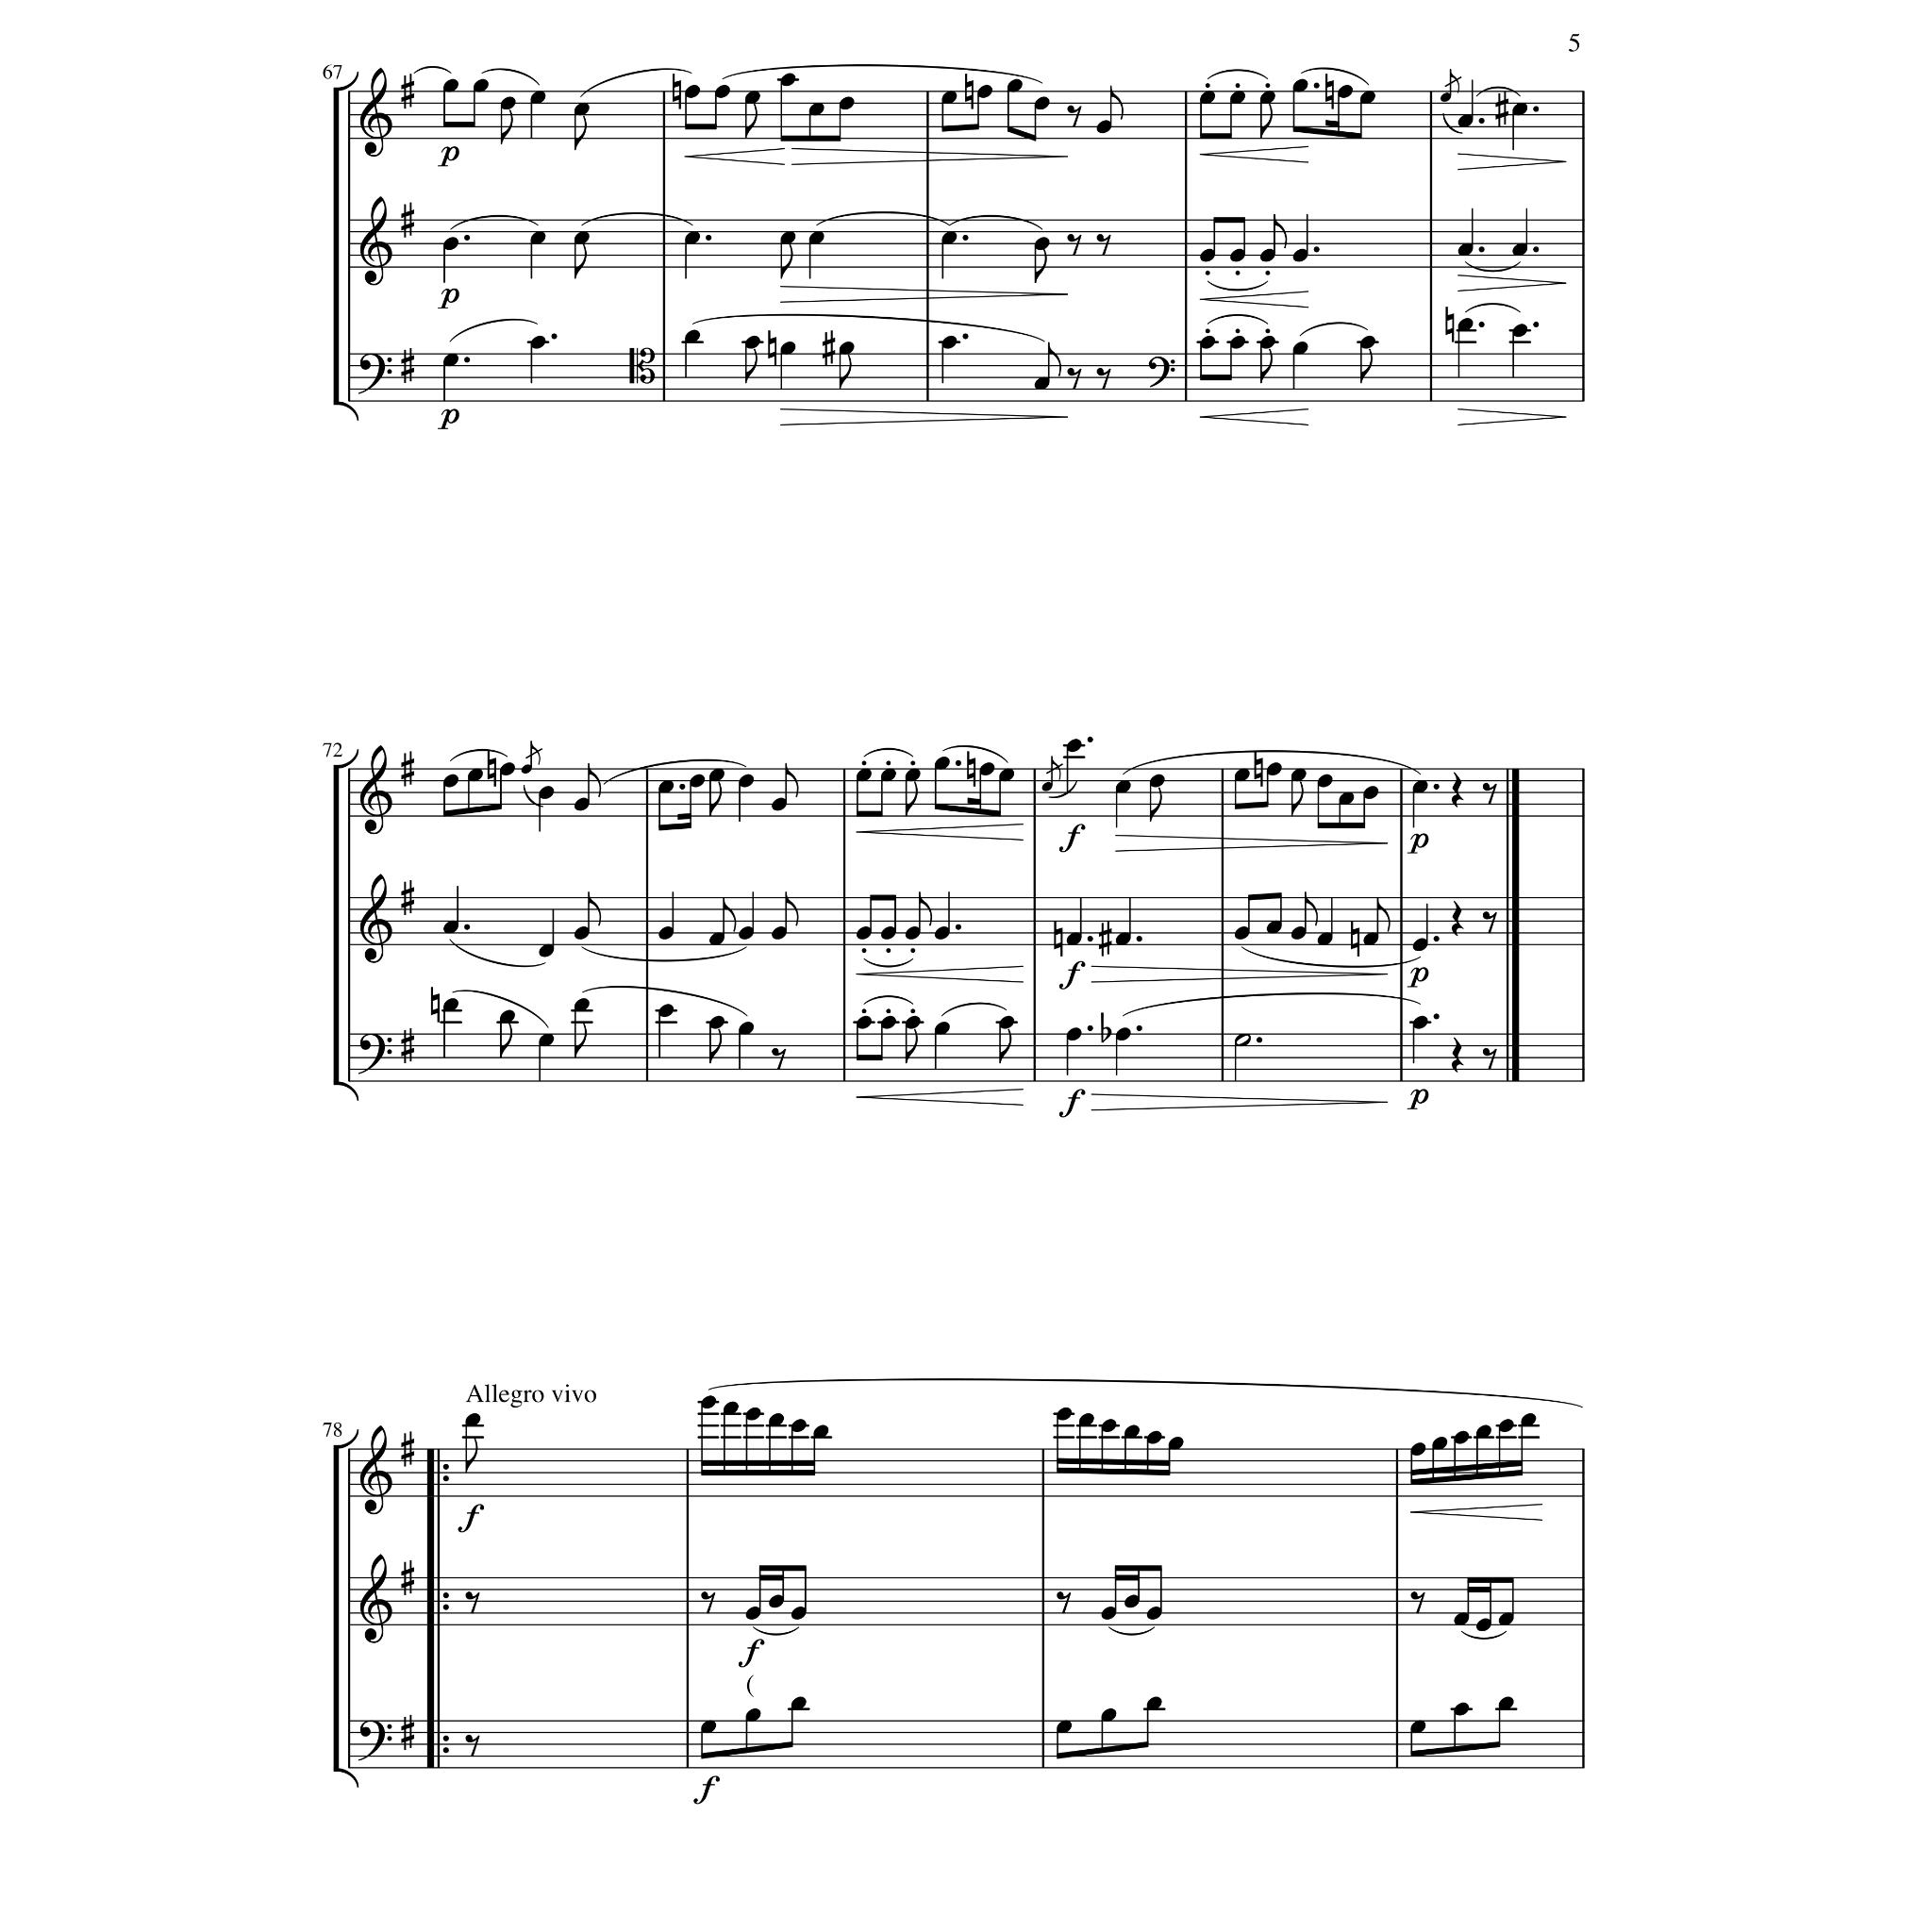fClef: (357, 354, 392, 395), (357, 1034, 392, 1075), (357, 1721, 392, 1762)
flag8thDown: (574, 115, 587, 151), (500, 109, 513, 145), (1034, 248, 1047, 284), (1291, 781, 1304, 817), (1149, 787, 1162, 823), (575, 1023, 588, 1058), (709, 781, 723, 817), (999, 1028, 1012, 1064), (709, 1028, 723, 1064), (500, 1023, 513, 1058), (1359, 349, 1373, 383), (574, 245, 587, 279), (839, 355, 852, 389), (1260, 104, 1272, 140), (745, 104, 757, 140), (906, 781, 917, 817), (906, 1028, 917, 1064), (466, 1438, 477, 1474), (1260, 349, 1272, 383), (781, 245, 792, 279), (745, 349, 757, 383)
flag8thUp: (1443, 62, 1462, 94), (1045, 749, 1064, 781), (525, 734, 543, 766), (1110, 85, 1124, 121), (1377, 898, 1391, 934), (724, 898, 737, 934), (1274, 215, 1287, 249), (1048, 343, 1061, 377), (1305, 892, 1318, 926), (588, 764, 601, 798), (588, 892, 601, 926), (919, 892, 932, 926), (786, 764, 799, 798), (786, 892, 799, 926)
gClef: (359, 196, 391, 287), (359, 68, 391, 158), (359, 745, 391, 836), (359, 874, 391, 964), (359, 1554, 391, 1644), (359, 1424, 391, 1515)
noteheadBlack: (1228, 91, 1245, 106), (1457, 317, 1474, 332), (1511, 102, 1528, 117), (574, 102, 591, 117), (574, 230, 591, 245), (743, 91, 760, 106), (441, 353, 458, 368), (779, 341, 796, 357), (779, 230, 796, 245), (838, 96, 855, 111), (838, 341, 855, 357), (1411, 938, 1428, 953), (1411, 1015, 1428, 1030), (1362, 932, 1379, 947), (1411, 779, 1428, 794), (574, 998, 591, 1013), (574, 926, 591, 941), (689, 774, 706, 789), (441, 774, 458, 789), (441, 998, 458, 1013), (538, 943, 555, 958), (498, 762, 515, 777), (498, 1009, 515, 1024), (879, 768, 896, 783), (879, 926, 896, 941), (879, 1015, 896, 1030), (998, 768, 1015, 783), (998, 1015, 1015, 1030), (934, 757, 951, 772), (934, 926, 951, 941), (738, 926, 755, 941), (738, 774, 755, 789), (1100, 1707, 1117, 1723), (1100, 1606, 1117, 1621), (1100, 1419, 1117, 1434), (1453, 1702, 1470, 1717), (1453, 1430, 1470, 1445), (1260, 91, 1275, 106), (1360, 91, 1375, 106), (1292, 341, 1307, 357), (1200, 91, 1215, 106), (685, 230, 700, 245), (500, 96, 515, 111), (530, 91, 545, 106), (530, 230, 545, 245), (1034, 96, 1049, 111), (809, 102, 824, 117), (809, 230, 824, 245), (941, 230, 957, 245), (941, 91, 957, 106), (1317, 932, 1332, 947), (1317, 774, 1332, 789), (1266, 762, 1281, 777), (1291, 768, 1306, 783), (1291, 926, 1306, 941), (1066, 932, 1081, 947), (1149, 774, 1164, 789), (1234, 768, 1249, 783), (1234, 926, 1249, 941), (1115, 779, 1130, 794), (1115, 932, 1130, 947), (658, 779, 674, 794), (658, 926, 674, 941), (658, 1004, 674, 1019), (709, 768, 724, 783), (709, 932, 724, 947), (709, 1015, 724, 1030), (468, 768, 483, 783), (906, 768, 921, 783), (906, 926, 921, 941), (906, 1015, 921, 1030), (979, 762, 994, 777), (857, 768, 872, 783), (857, 926, 872, 941), (857, 1015, 872, 1030), (772, 926, 787, 941), (1124, 1594, 1140, 1609), (1124, 1424, 1140, 1440), (1146, 1696, 1161, 1711), (1146, 1606, 1161, 1621), (1146, 1430, 1161, 1445), (1498, 1696, 1513, 1711), (1498, 1419, 1513, 1434), (1475, 1424, 1491, 1440), (745, 1707, 760, 1723), (745, 1606, 760, 1621), (813, 1424, 828, 1440), (769, 1594, 784, 1609), (791, 1606, 806, 1621), (791, 1419, 806, 1434), (791, 1696, 806, 1711), (1228, 249, 1245, 262), (1228, 336, 1245, 349), (1457, 115, 1474, 128), (1457, 243, 1474, 257), (1511, 243, 1528, 257), (1511, 325, 1528, 338), (743, 336, 760, 349), (441, 79, 458, 92), (441, 238, 458, 251), (975, 85, 992, 98), (779, 74, 796, 87), (1338, 792, 1355, 806), (1362, 787, 1379, 800), (574, 798, 591, 811), (441, 921, 458, 934), (538, 787, 555, 800), (538, 1034, 555, 1047), (934, 1023, 951, 1036), (738, 1023, 755, 1036), (1409, 1721, 1426, 1734), (1409, 1443, 1426, 1457), (1453, 1613, 1470, 1626), (700, 1721, 717, 1734), (700, 1396, 717, 1409), (464, 1413, 481, 1426), (1260, 336, 1275, 349), (1260, 249, 1275, 262), (1338, 85, 1353, 98), (1360, 336, 1375, 349), (1292, 79, 1307, 92), (1292, 249, 1307, 262), (1200, 249, 1215, 262), (1200, 336, 1215, 349), (1096, 121, 1111, 134), (685, 330, 700, 343), (685, 85, 700, 98), (715, 85, 730, 98), (474, 79, 489, 92), (530, 336, 545, 349), (1008, 79, 1023, 92), (1034, 238, 1049, 251), (1034, 377, 1049, 391), (941, 336, 957, 349), (1266, 921, 1281, 934), (1066, 740, 1081, 753), (1066, 1028, 1081, 1041), (1115, 1028, 1130, 1041), (772, 798, 787, 811), (1168, 1438, 1183, 1451), (1521, 1413, 1536, 1426), (1432, 1438, 1447, 1451), (1498, 1613, 1513, 1626), (1475, 1619, 1491, 1632), (745, 1407, 760, 1421), (723, 1402, 738, 1415), (1057, 1721, 1072, 1734), (1057, 1407, 1072, 1421), (1079, 1413, 1094, 1426), (769, 1413, 784, 1426), (1041, 781, 1053, 792), (521, 764, 532, 775), (1440, 93, 1451, 103)
noteheadHalf: (1234, 1034, 1251, 1047)
rest8th: (1410, 1591, 1425, 1615), (700, 1591, 715, 1615), (465, 1734, 480, 1758), (465, 1591, 480, 1615), (1056, 1591, 1071, 1615), (1096, 234, 1111, 257), (1096, 368, 1111, 391), (1067, 106, 1082, 128), (1067, 234, 1082, 257), (1067, 368, 1082, 391), (1482, 783, 1497, 806), (1482, 911, 1497, 934), (1482, 1048, 1497, 1071), (771, 1048, 786, 1071)
restQuarter: (1451, 1036, 1464, 1074), (1451, 900, 1464, 938), (1451, 773, 1464, 808)
